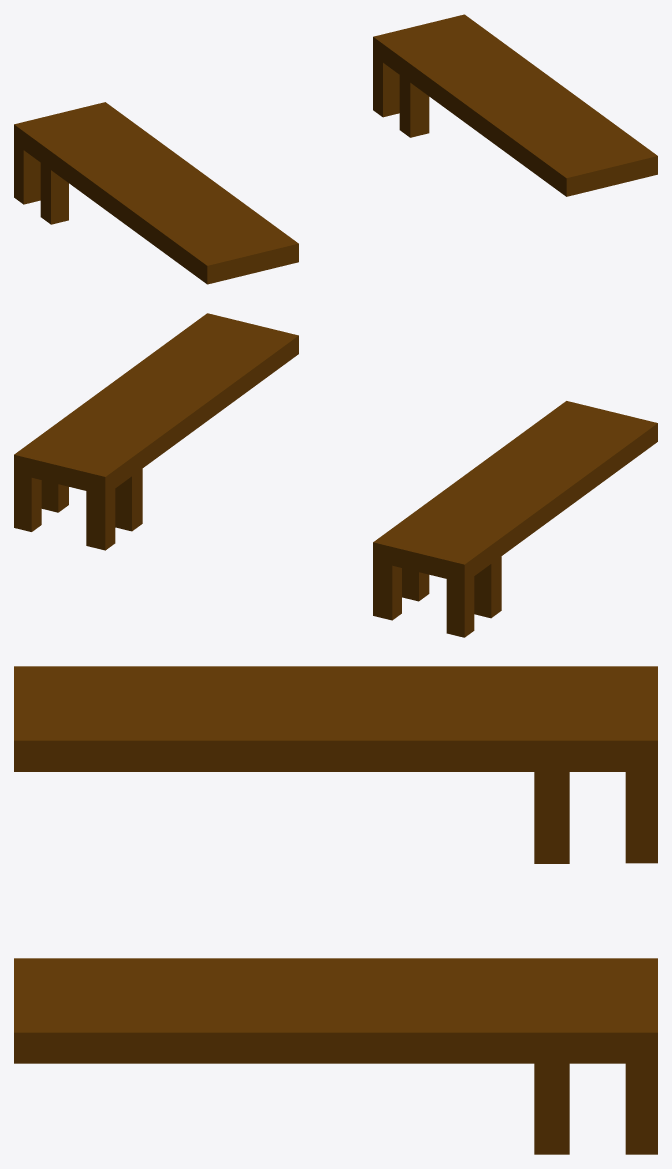
File: DebugGoal.obj
The picture shows the model from 3 angles, top to bottom: view 1: azimuth 30°, elevation 25°; view 2: azimuth 150°, elevation 25°; view 3: azimuth 270°, elevation 25°; orthographic projection. The views are drawn at different scales.
Visible parts, largest first — view 1: Goal; view 2: Goal; view 3: Goal.
Boxes of the visible parts, x1,y1,x2,y2 form: Goal: (14,14,657,284); Goal: (14,313,657,637); Goal: (14,666,657,1154).
Bounding box in the file's own units: 3.37 × 0.5287 × 2.51.
Materials: 1 (1 with a texture image).
